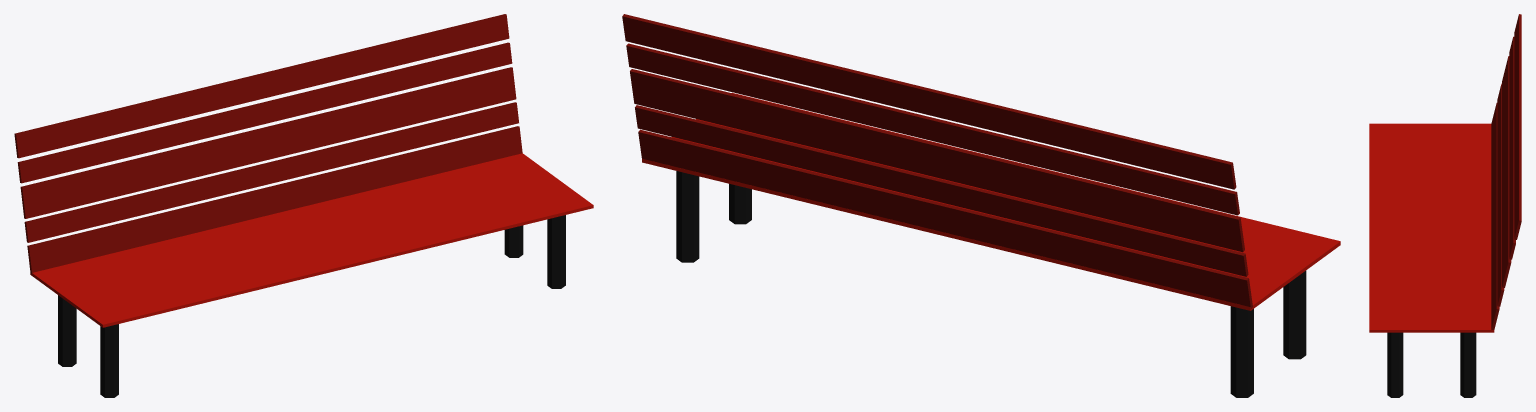
Rendered from Bench_2.fbx.
3 views of the same model, side by side, from view 1: azimuth 30°, elevation 25°; view 2: azimuth 150°, elevation 25°; view 3: azimuth 270°, elevation 25° (orthographic). The views are drawn at different scales.
Parts seen in each view (by area): view 1: Bench_2; view 2: Bench_2; view 3: Bench_2.
Boxes of the visible parts, <box> form: Bench_2: <box>14,14,593,397</box>; Bench_2: <box>622,14,1340,397</box>; Bench_2: <box>1369,14,1521,397</box>.
Bounding box in the file's own units: 242 × 100 × 75.62.
